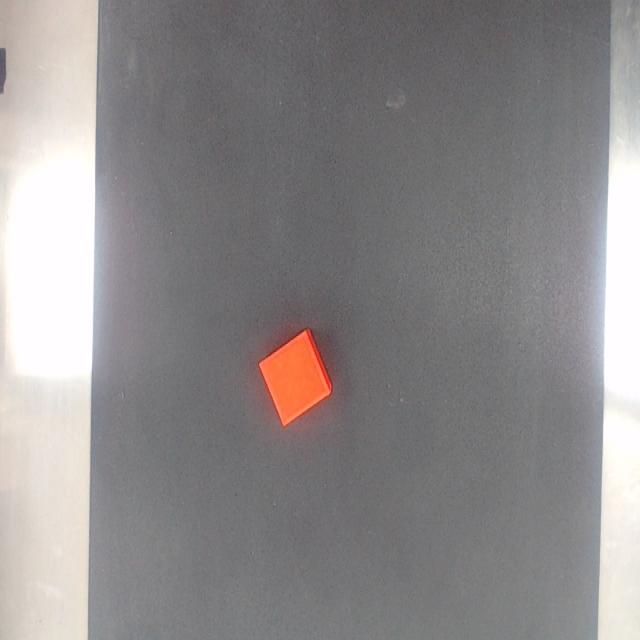Rojo: (258, 328, 331, 427)
